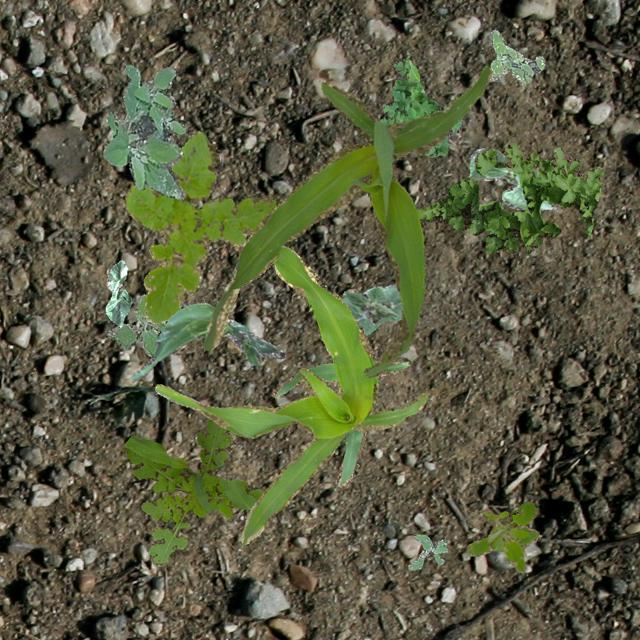crop: (202, 65, 490, 376), (154, 244, 426, 546), (270, 334, 410, 486), (130, 302, 284, 381), (468, 146, 552, 210), (341, 282, 402, 334), (104, 258, 130, 326)
weed: (124, 130, 274, 322), (416, 142, 604, 255), (124, 418, 264, 564), (102, 64, 184, 198), (378, 58, 464, 156), (466, 501, 540, 572), (106, 294, 164, 356), (486, 29, 544, 86), (406, 532, 446, 570)
